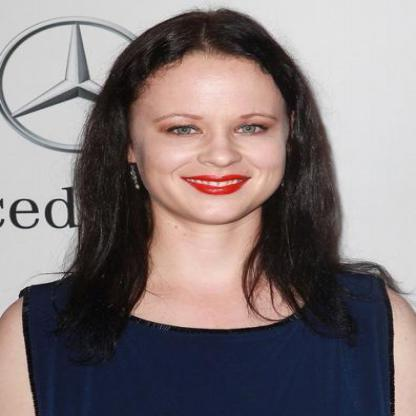long-hair: (61, 226, 350, 278)
